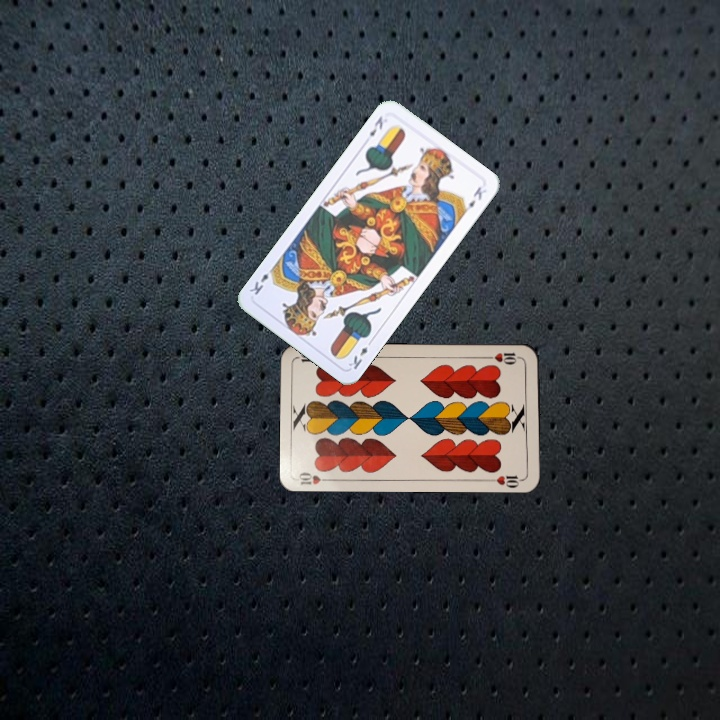EK: (344, 335, 375, 372), (365, 112, 386, 139)
H10: (294, 468, 335, 487), (483, 349, 524, 367)
